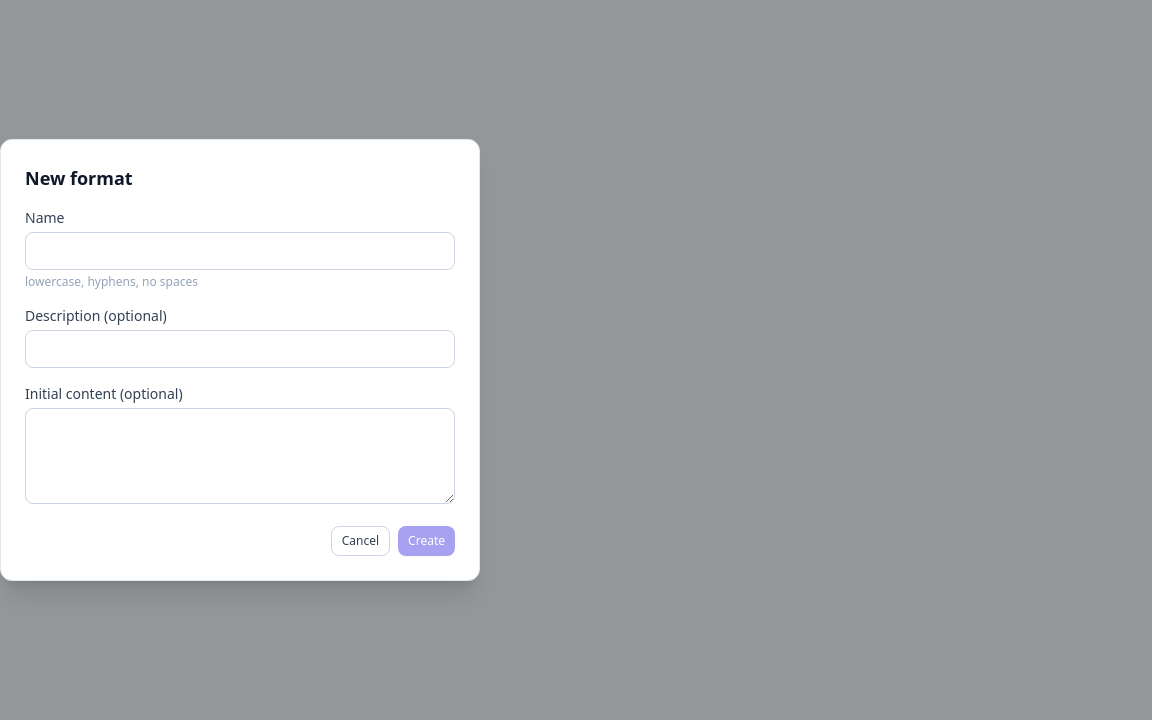
NewEntryDialog › shows inline error on 409
Type "x" into the field labelled "Name" at {"x": 240, "y": 251}, box [25,232,455,270]
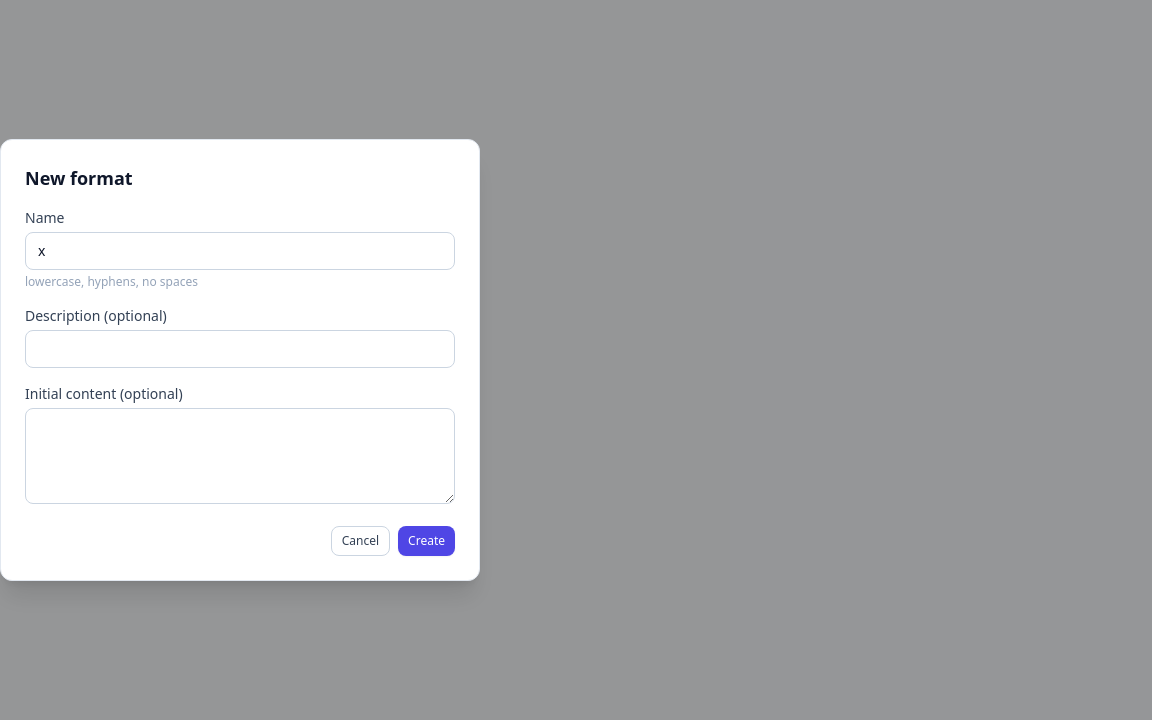
Click the button "Create" at {"x": 427, "y": 541}, box [398,526,455,556]
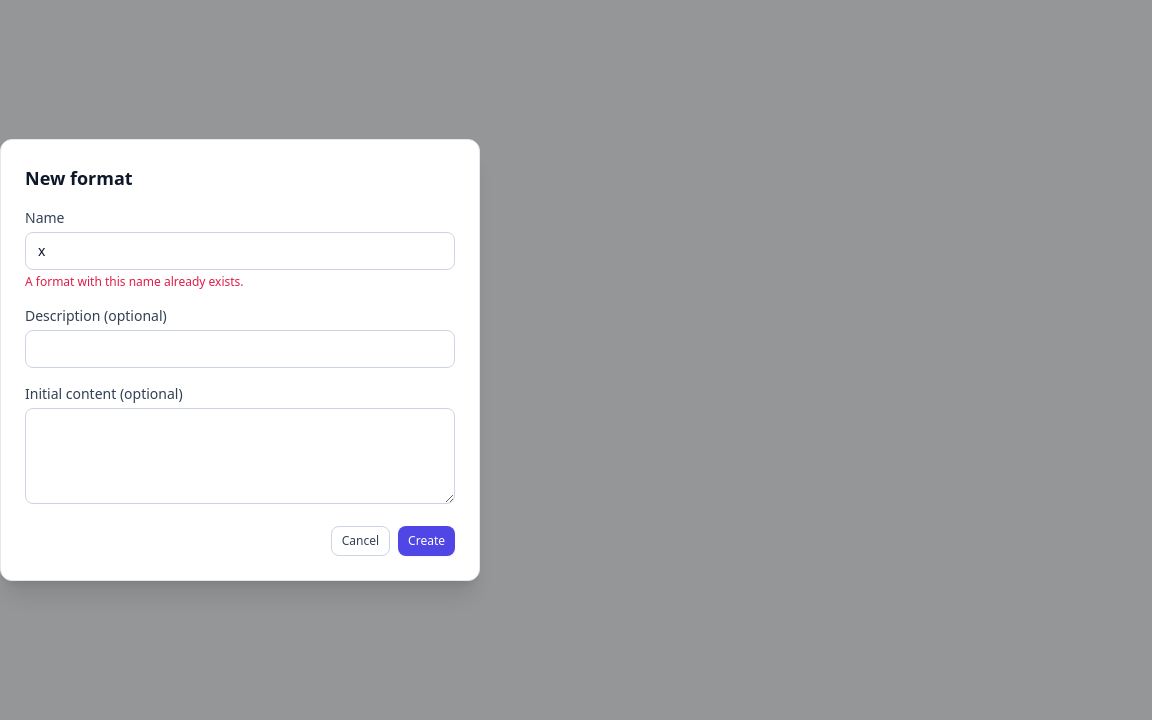
Check: the text "A format with this name already exists." is shown, box [25,273,244,290]
